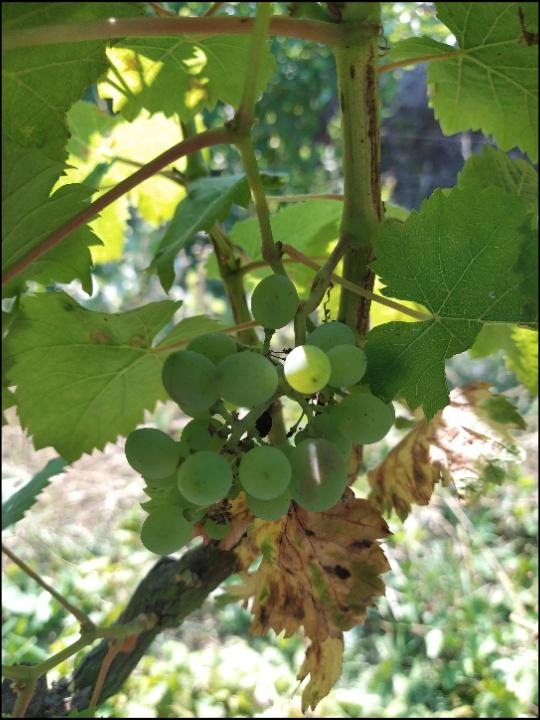grape: (121, 272, 396, 558)
